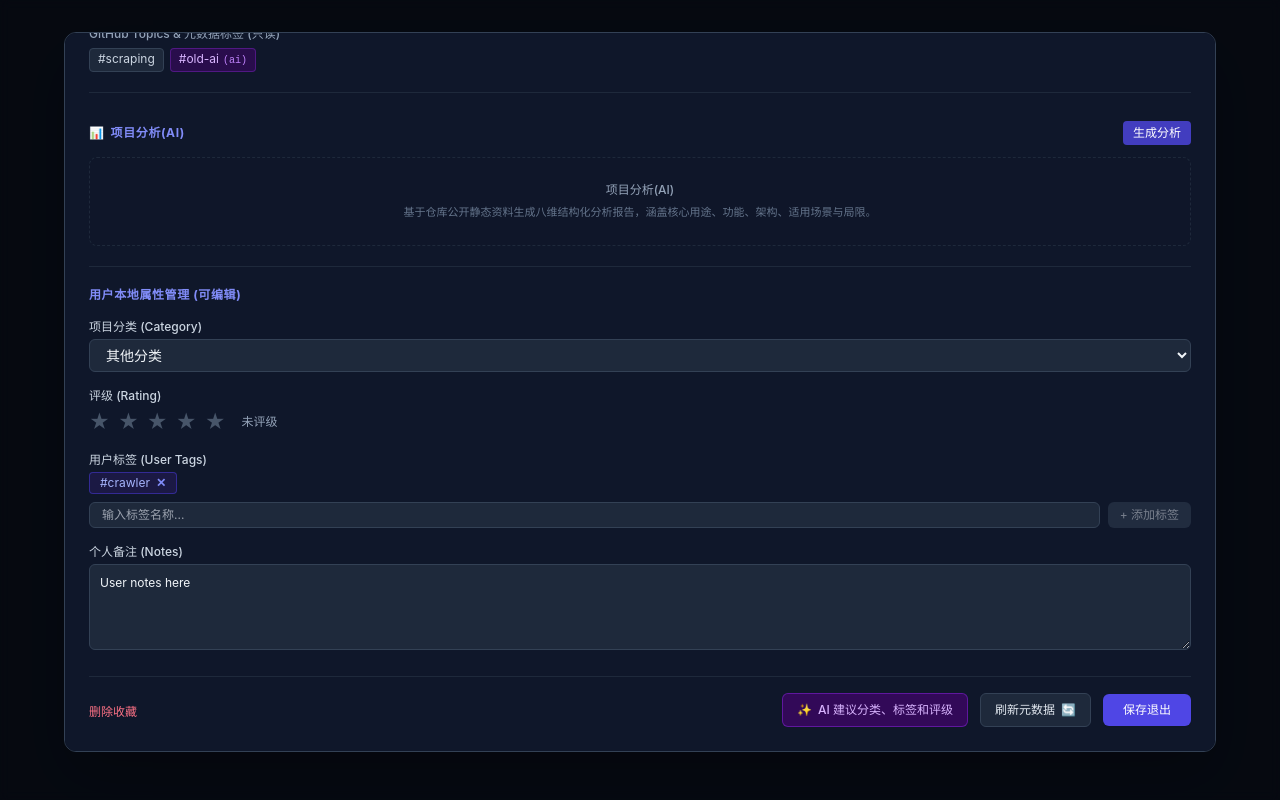
it: FavoriteDetailModal Phase 6-C Acceptance Tests › Phase 6-C Enhancement: AI Rating, Ollama Structured Suggestion & Detail Modal Enlarge › P6C-ENH-02: AI Suggestion populates Category, Rating stars, Rating reason, and Confidence in a single request
This screenshot has width=1280, height=800.
(page scrolled)
Expected: the text "未评级" is shown, [242,414,278,430]
Click the button with test id "ai-suggest-btn". click: (875, 710)
box: [782,692,968,726]
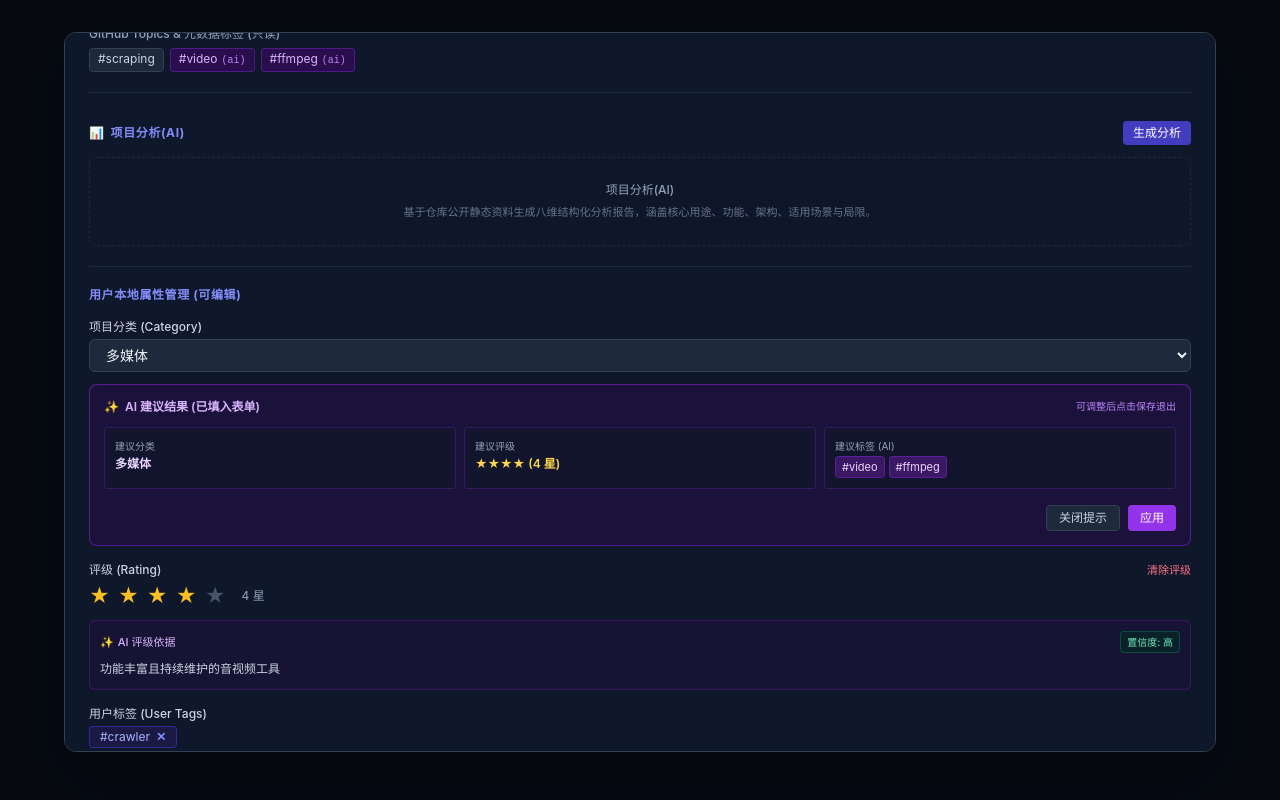
Expected: the dropdown with test id "detail-category-select" shows "多媒体", [89,338,1191,372]
Expected: the text "4 星" is shown, [242,588,265,604]
Expected: the element with test id "ai-rating-reason-card" is shown, [89,620,1191,690]
